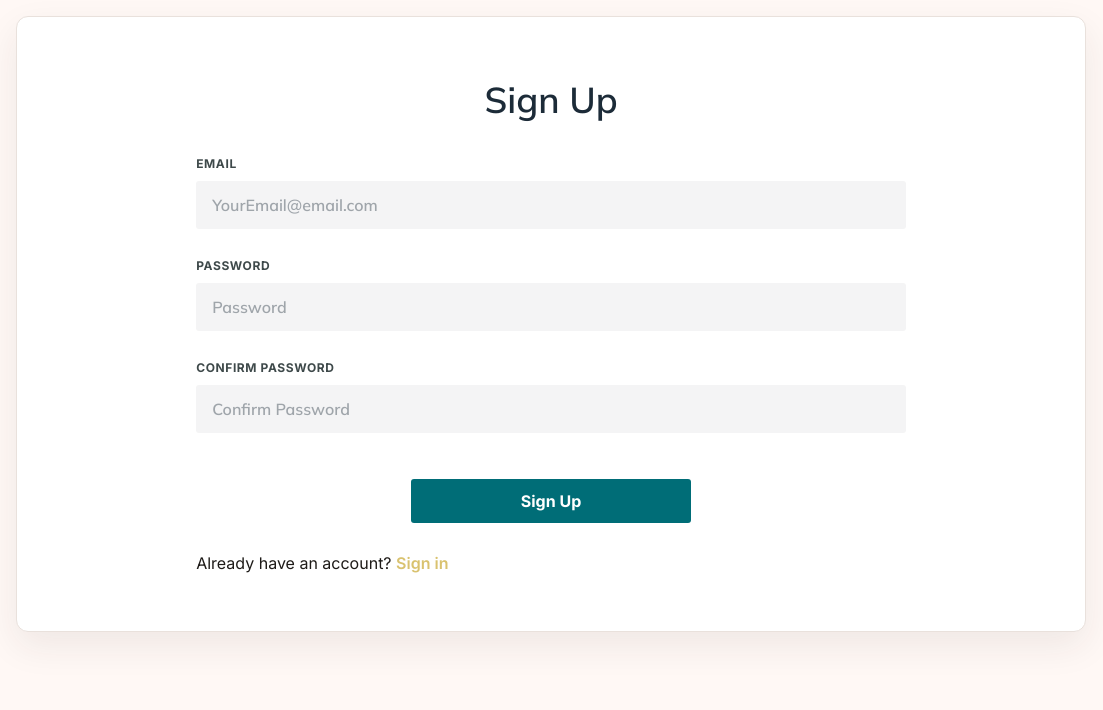
Test: Sign Up › shows an error if passwords do not match
In the field with placeholder "YourEmail@email.com": (551, 205) [196,181,906,229], type "test@test.com"
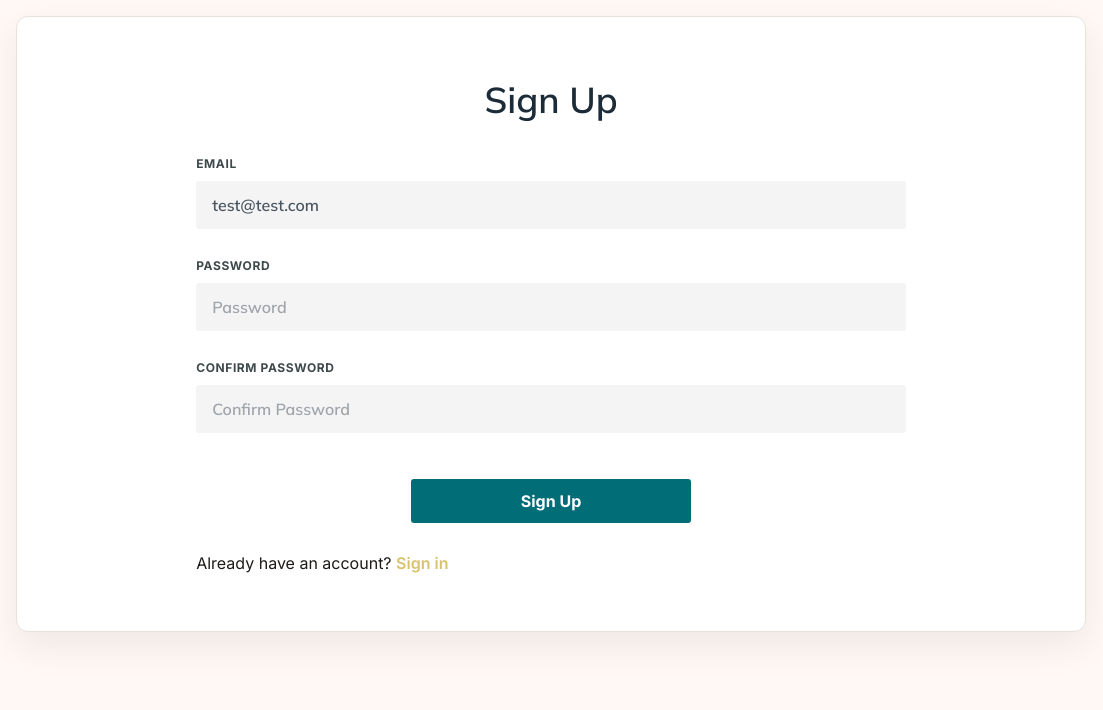
// enter passwords that don't match
In the password field with placeholder "Password": (551, 307) [196,283,906,331], type "secret123"
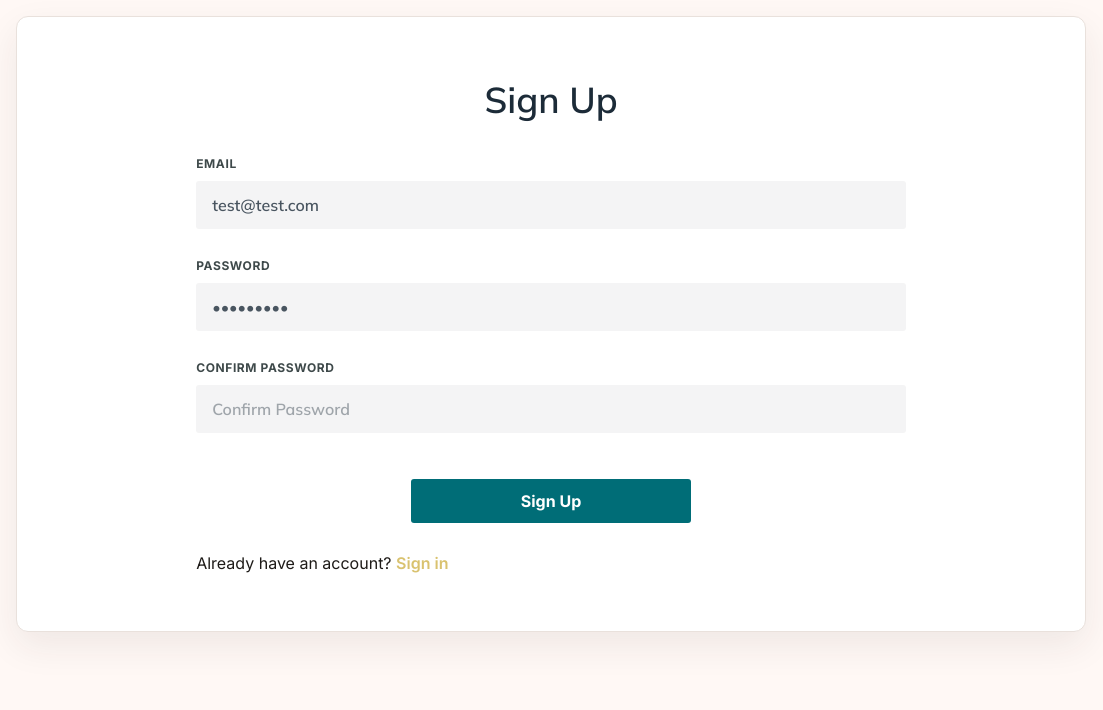
In the password field with placeholder "Confirm Password": (551, 409) [196,385,906,433], type "wrong"
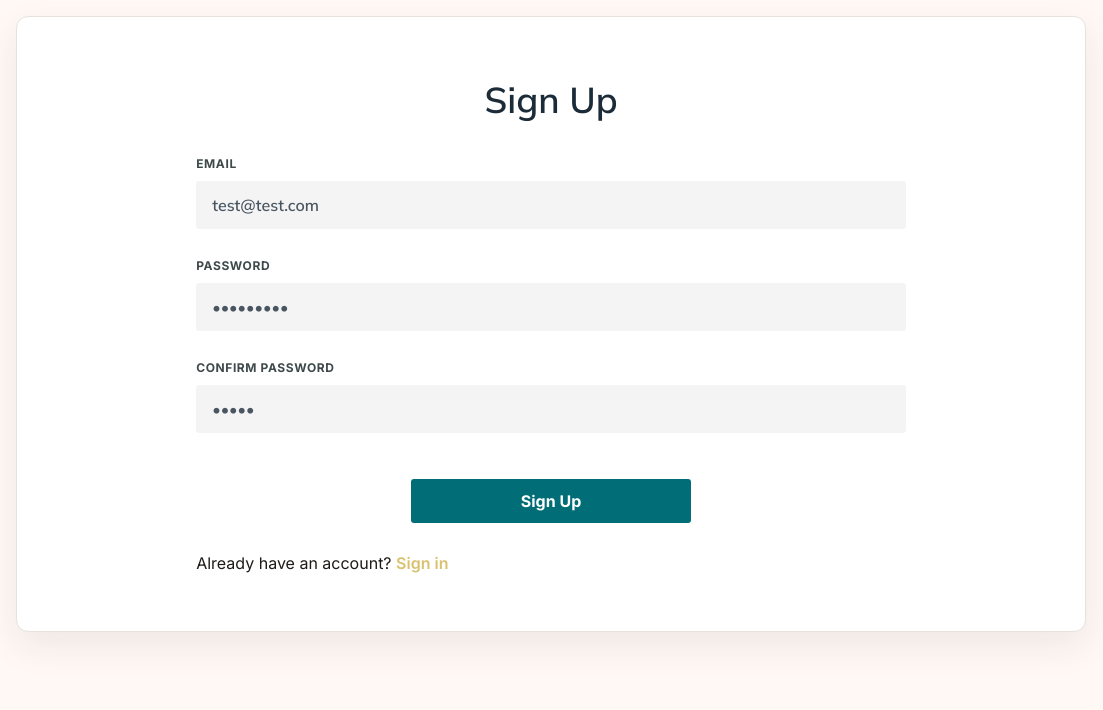
Submit the form from the button "Sign Up", box [411,479,691,523]
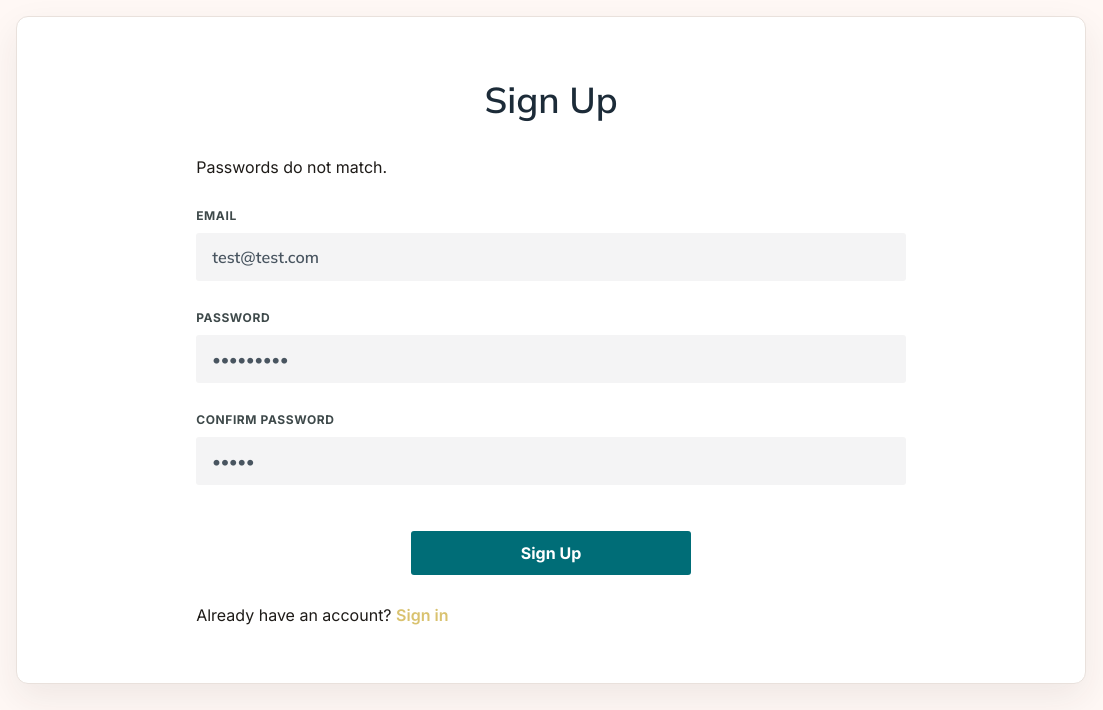
Expected: the text "Passwords do not match." is shown, [196,157,387,177]
